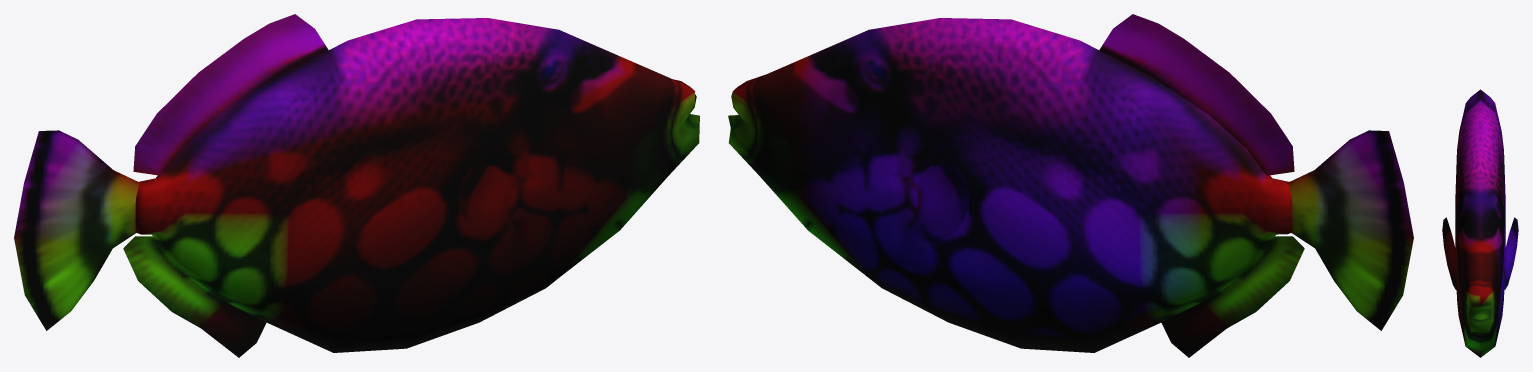
The model's file is clown_triggerfish.glb.
3 views of the same model, side by side, from view 1: azimuth 30°, elevation 25°; view 2: azimuth 150°, elevation 25°; view 3: azimuth 270°, elevation 25° (orthographic). The views are drawn at different scales.
Parts seen in each view (by area): view 1: ClownTriggerfish; view 2: ClownTriggerfish; view 3: ClownTriggerfish.
Boxes of the visible parts, x1,y1,x2,y2 form: ClownTriggerfish: (14,14,699,357); ClownTriggerfish: (728,14,1413,357); ClownTriggerfish: (1442,89,1518,357).
Bounding box in the file's own units: 1 × 0.5041 × 0.1481.
Materials: 1 (1 with a texture image).
